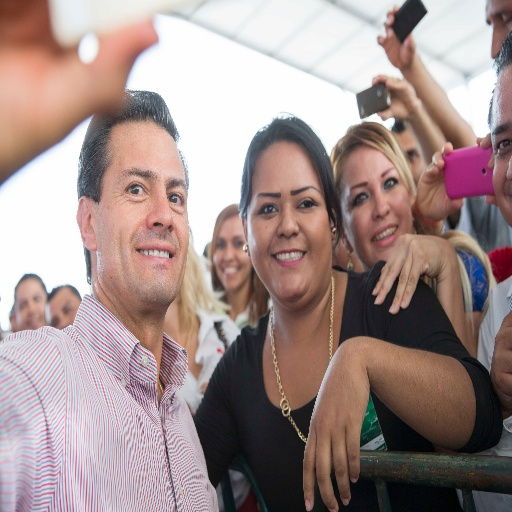hand: (0, 0, 160, 186), (301, 340, 371, 511), (370, 230, 449, 316), (415, 139, 464, 222), (376, 3, 415, 74), (369, 71, 418, 123), (489, 306, 511, 404), (475, 130, 498, 207)
